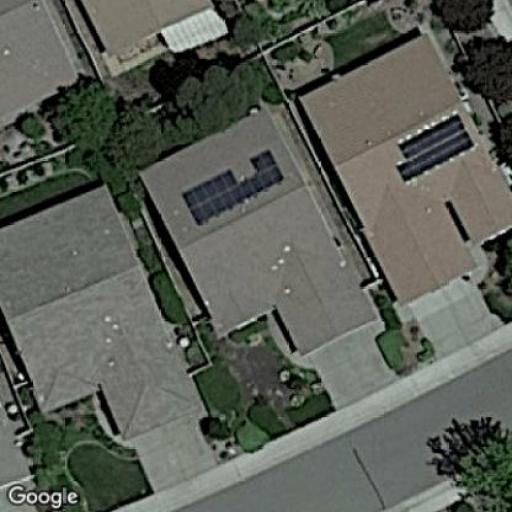solar-panel: (181, 148, 285, 228), (395, 112, 476, 185)
